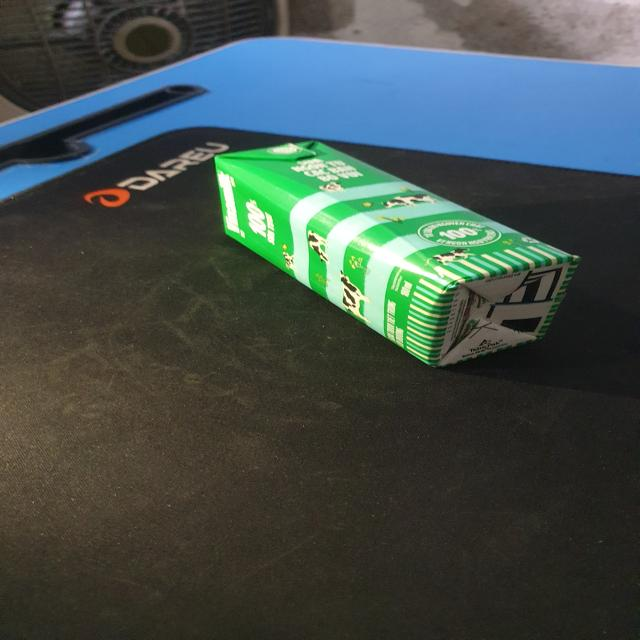Vina: (190, 136, 585, 368)
